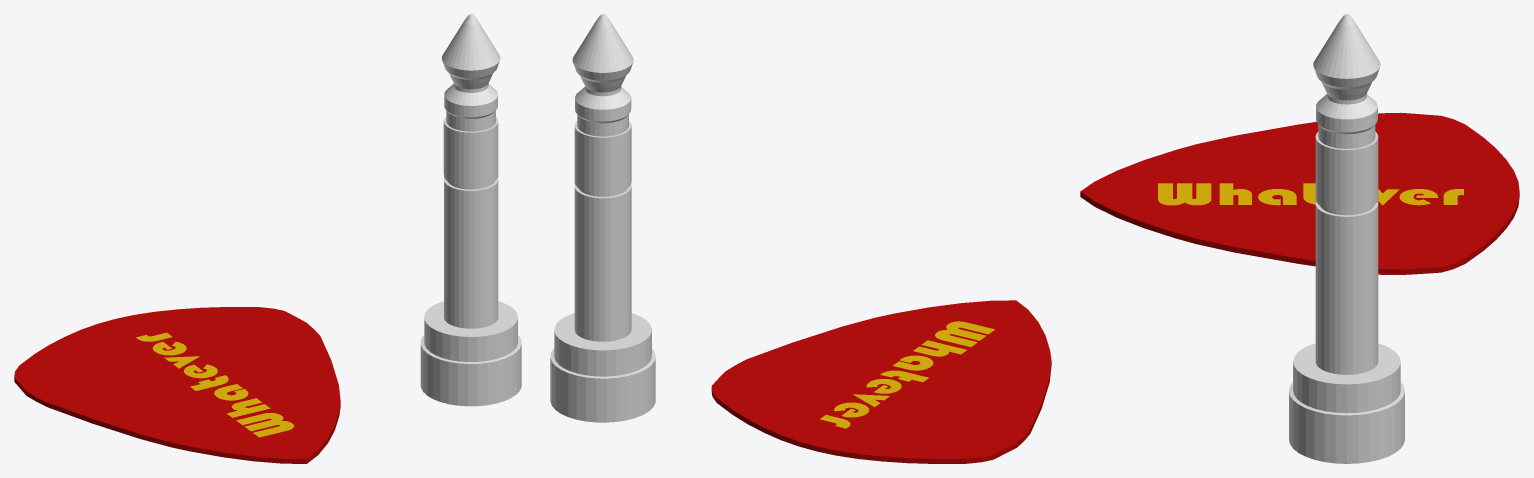
The model's file is paleta_e_adap.fbx.
3 renders of one model, left to right at view 1: azimuth 30°, elevation 25°; view 2: azimuth 150°, elevation 25°; view 3: azimuth 270°, elevation 25°, orthographic. The views are drawn at different scales.
Parts seen in each view (by area): view 1: Cube.001, Cylinder, Text; view 2: Cube.001, Cylinder, Text; view 3: Cube.001, Cylinder, Text.
Part boxes in pixels (box(x1,y1,x2,y2)): Cube.001: box(14, 307, 340, 463); Cylinder: box(420, 14, 521, 406); Text: box(136, 332, 294, 437); Cube.001: box(711, 300, 1051, 463); Cylinder: box(550, 14, 655, 422); Text: box(820, 321, 994, 428); Cube.001: box(1080, 112, 1519, 274); Cylinder: box(1289, 14, 1404, 463); Text: box(1158, 183, 1463, 205).
Size of the model in its own units: 363 by 276 by 259.
